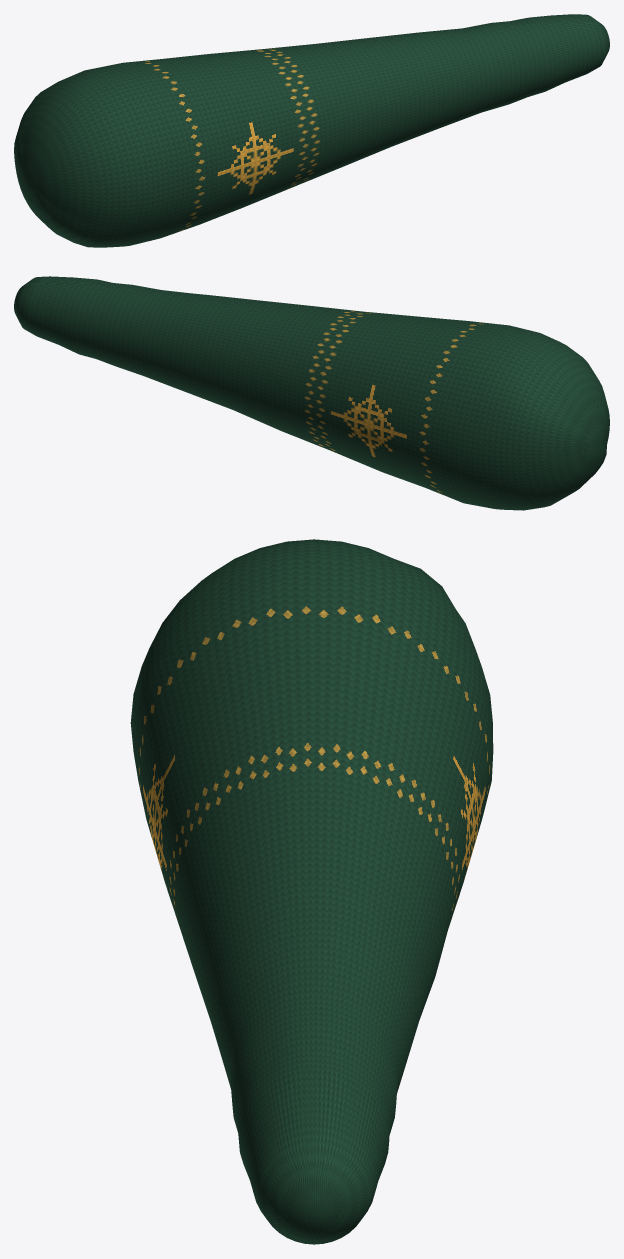
Rendered from sleeve-right.fbx.
The picture shows the model from 3 angles, top to bottom: view 1: azimuth 30°, elevation 25°; view 2: azimuth 150°, elevation 25°; view 3: azimuth 270°, elevation 25°; orthographic projection. The views are drawn at different scales.
Visible parts, largest first — view 1: sleeve-right; view 2: sleeve-right; view 3: sleeve-right.
Part boxes in pixels (x1,y1,x2,y2): sleeve-right: (14,14,609,247); sleeve-right: (14,276,609,510); sleeve-right: (130,539,493,1244).
Bounding box in the file's own units: 66.5 × 18.06 × 17.97.
1 material, 1 textured.
